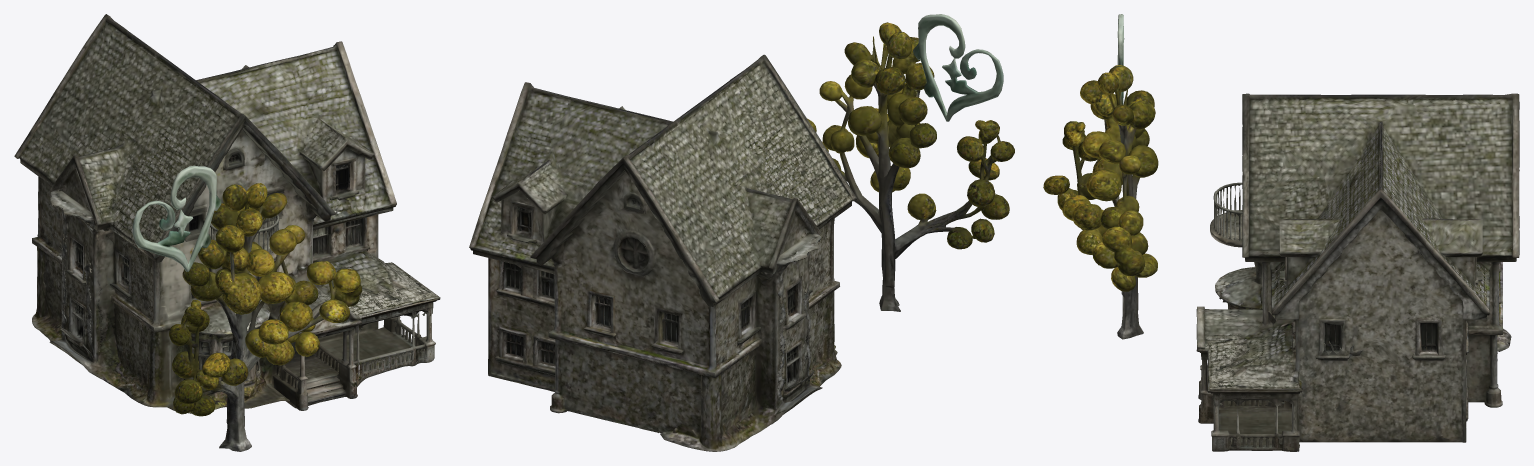
The model's file is haunt.glb.
3 views of the same model, side by side, from view 1: azimuth 30°, elevation 25°; view 2: azimuth 150°, elevation 25°; view 3: azimuth 270°, elevation 25° (orthographic). The views are drawn at different scales.
Visible parts, largest first — view 1: tripo_node_7f46b35b-774a-4b0f-8ac9-4fc27f4ef0ea; view 2: tripo_node_7f46b35b-774a-4b0f-8ac9-4fc27f4ef0ea; view 3: tripo_node_7f46b35b-774a-4b0f-8ac9-4fc27f4ef0ea.
Part boxes in pixels (<box>): tripo_node_7f46b35b-774a-4b0f-8ac9-4fc27f4ef0ea: <box>14,14,440,451</box>; tripo_node_7f46b35b-774a-4b0f-8ac9-4fc27f4ef0ea: <box>469,14,1014,451</box>; tripo_node_7f46b35b-774a-4b0f-8ac9-4fc27f4ef0ea: <box>1043,14,1519,451</box>.
Bounding box in the file's own units: 0.8294 × 0.6984 × 0.9792.
Materials: 1 (1 with a texture image).
